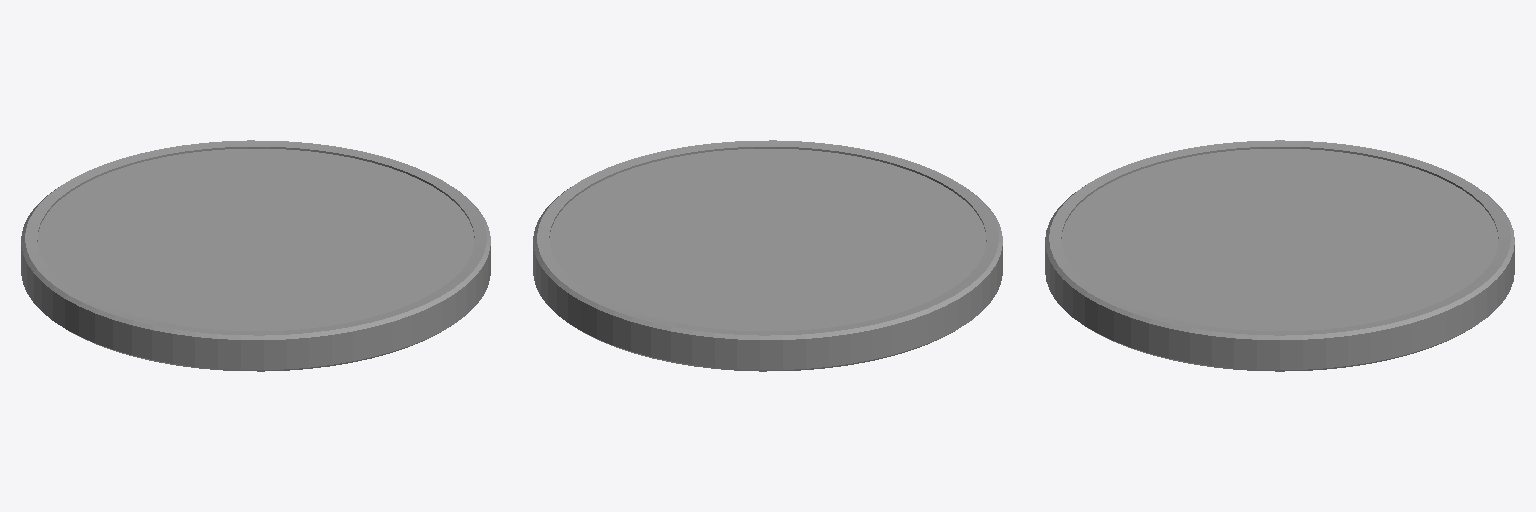
File: TyveKrone.obj
3 views of the same model, side by side, from view 1: azimuth 30°, elevation 25°; view 2: azimuth 150°, elevation 25°; view 3: azimuth 270°, elevation 25° (orthographic).
Size of the model in its own units: 2.78 by 0.2346 by 2.78.